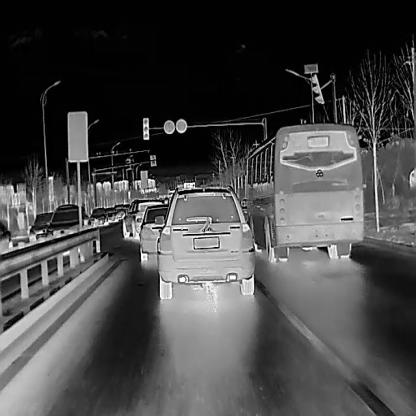bus: (239, 120, 364, 262)
car: (150, 184, 255, 300), (44, 202, 91, 248), (138, 202, 172, 262), (120, 198, 164, 240), (29, 210, 57, 247), (88, 205, 108, 226), (103, 206, 118, 220)
